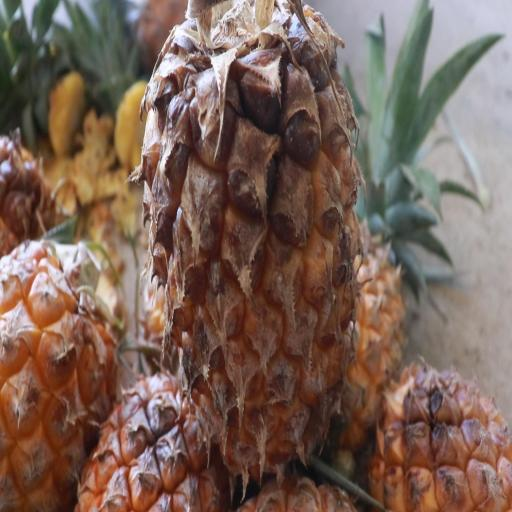Pineapple - v8 v1: (133, 0, 360, 493), (0, 227, 123, 512), (69, 336, 234, 512), (368, 359, 512, 512)
